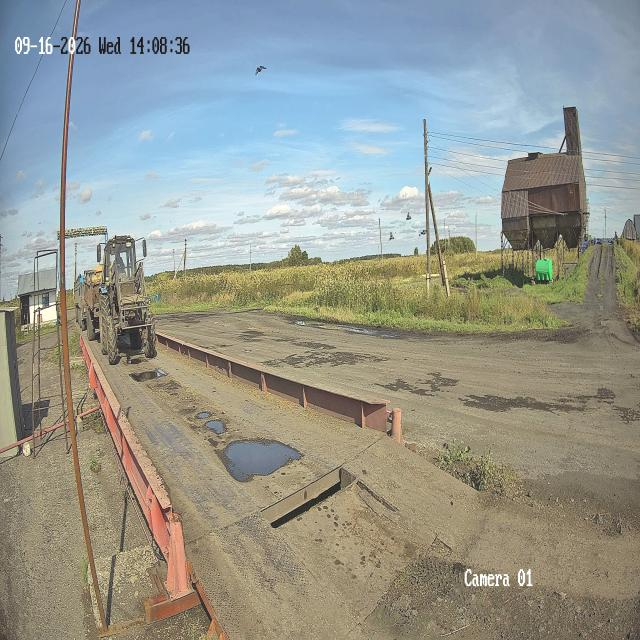tractor: (97, 235, 156, 363)
trailer: (83, 265, 102, 340), (73, 273, 86, 330)
